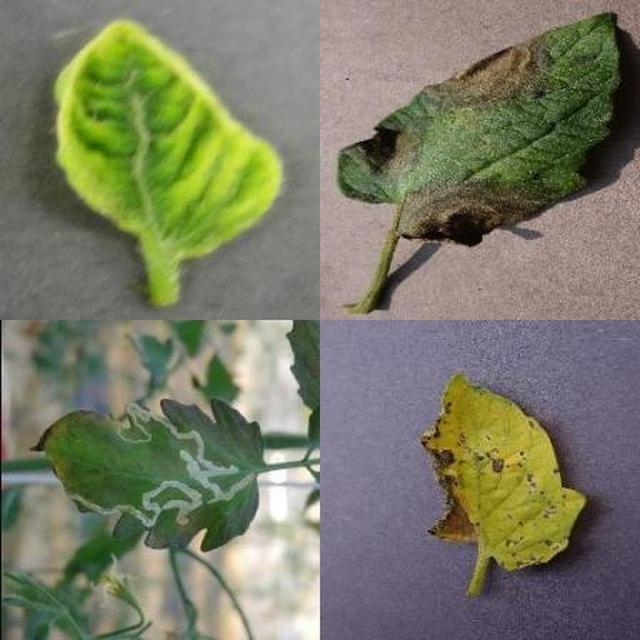Yellow Leaf Curl Virus: (210, 186, 640, 640)
